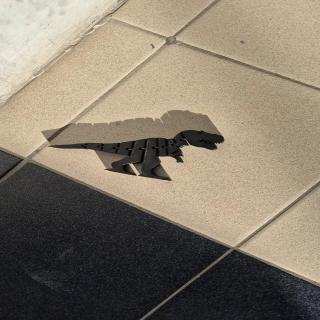dino: (47, 129, 225, 182)
